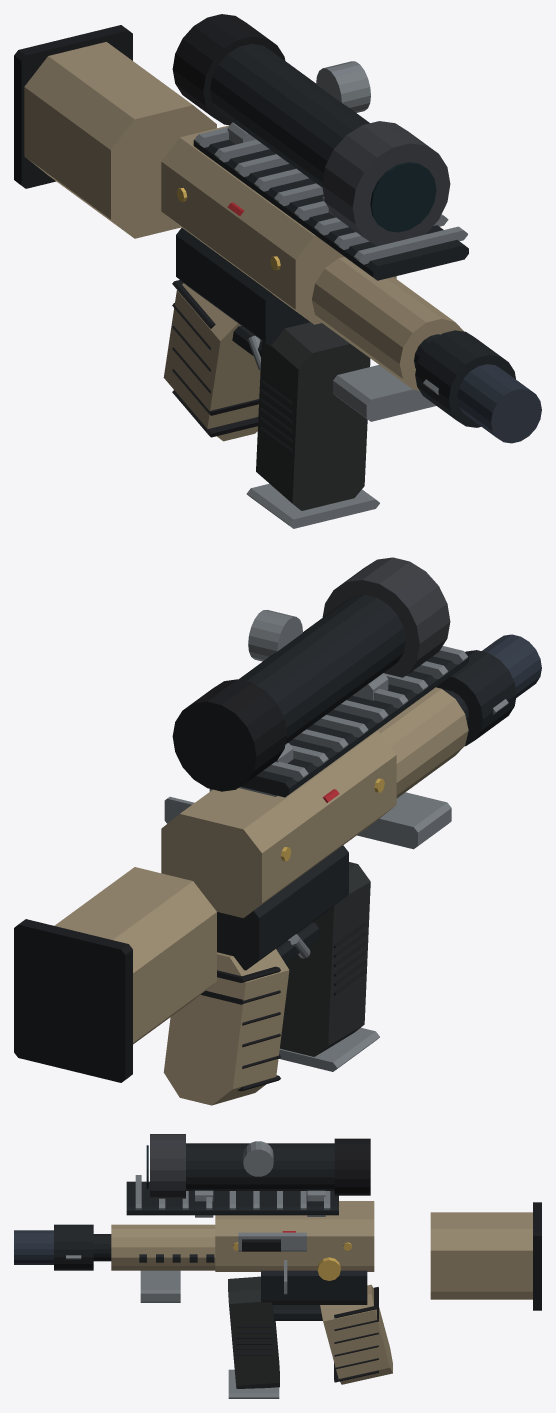
The model's file is 04_Kodiak7_Battle_Rifle.obj.
The picture shows the model from 3 angles, top to bottom: view 1: azimuth 30°, elevation 25°; view 2: azimuth 150°, elevation 25°; view 3: azimuth 270°, elevation 25°; orthographic projection. The views are drawn at different scales.
Parts seen in each view (by area): view 1: 051_Solid_Stock, 014_Magazine, 000_Machined_Upper_Receiver, 053_ScopeBody, 023_Outer_Barrel_Shroud, 007_Angled_Grip, 054_ScopeBell, 001_Lower_Receiver, 035_Top_Picatinny, 055_ScopeEyepiece, 060_Flash_Hider, 031_Muzzle_Shroud (+11 smaller); view 2: 000_Machined_Upper_Receiver, 052_EndPad, 051_Solid_Stock, 007_Angled_Grip, 053_ScopeBody, 014_Magazine, 055_ScopeEyepiece, 001_Lower_Receiver, 054_ScopeBell, 023_Outer_Barrel_Shroud, 035_Top_Picatinny, 031_Muzzle_Shroud (+8 smaller); view 3: 051_Solid_Stock, 000_Machined_Upper_Receiver, 053_ScopeBody, 023_Outer_Barrel_Shroud, 014_Magazine, 007_Angled_Grip, 035_Top_Picatinny, 001_Lower_Receiver, 054_ScopeBell, 055_ScopeEyepiece, 031_Muzzle_Shroud, 060_Flash_Hider (+9 smaller).
Part boxes in pixels (x1=…): 051_Solid_Stock: x1=24, y1=42, x2=216, y2=238; 014_Magazine: x1=256, y1=322, x2=370, y2=510; 000_Machined_Upper_Receiver: x1=161, y1=125, x2=396, y2=324; 053_ScopeBody: x1=210, y1=44, x2=369, y2=187; 023_Outer_Barrel_Shroud: x1=312, y1=256, x2=463, y2=390; 007_Angled_Grip: x1=163, y1=283, x2=260, y2=441; 054_ScopeBell: x1=322, y1=121, x2=450, y2=245; 001_Lower_Receiver: x1=176, y1=228, x2=310, y2=346; 035_Top_Picatinny: x1=193, y1=139, x2=468, y2=280; 055_ScopeEyepiece: x1=172, y1=14, x2=285, y2=125; 060_Flash_Hider: x1=457, y1=364, x2=541, y2=443; 031_Muzzle_Shroud: x1=415, y1=330, x2=515, y2=427; 000_Machined_Upper_Receiver: x1=161, y1=730, x2=396, y2=918; 052_EndPad: x1=14, y1=919, x2=132, y2=1082; 051_Solid_Stock: x1=54, y1=867, x2=216, y2=1044; 007_Angled_Grip: x1=163, y1=949, x2=289, y2=1105; 053_ScopeBody: x1=239, y1=594, x2=405, y2=744; 014_Magazine: x1=280, y1=862, x2=370, y2=1056; 055_ScopeEyepiece: x1=172, y1=679, x2=286, y2=791; 001_Lower_Receiver: x1=217, y1=845, x2=348, y2=970; 054_ScopeBell: x1=322, y1=557, x2=450, y2=677; 023_Outer_Barrel_Shroud: x1=377, y1=687, x2=468, y2=798; 035_Top_Picatinny: x1=241, y1=655, x2=468, y2=797; 031_Muzzle_Shroud: x1=436, y1=650, x2=516, y2=746; 051_Solid_Stock: x1=430, y1=1212, x2=532, y2=1299; 000_Machined_Upper_Receiver: x1=215, y1=1201, x2=374, y2=1271; 053_ScopeBody: x1=186, y1=1143, x2=334, y2=1190; 023_Outer_Barrel_Shroud: x1=111, y1=1224, x2=215, y2=1270; 014_Magazine: x1=228, y1=1276, x2=279, y2=1388; 007_Angled_Grip: x1=320, y1=1284, x2=392, y2=1384; 035_Top_Picatinny: x1=126, y1=1181, x2=338, y2=1215; 001_Lower_Receiver: x1=261, y1=1270, x2=367, y2=1304; 054_ScopeBell: x1=150, y1=1134, x2=185, y2=1200; 055_ScopeEyepiece: x1=334, y1=1138, x2=370, y2=1195; 031_Muzzle_Shroud: x1=54, y1=1224, x2=93, y2=1270; 060_Flash_Hider: x1=14, y1=1230, x2=53, y2=1264.
Size of the model in its own units: 0.332 by 0.7659 by 1.46.
